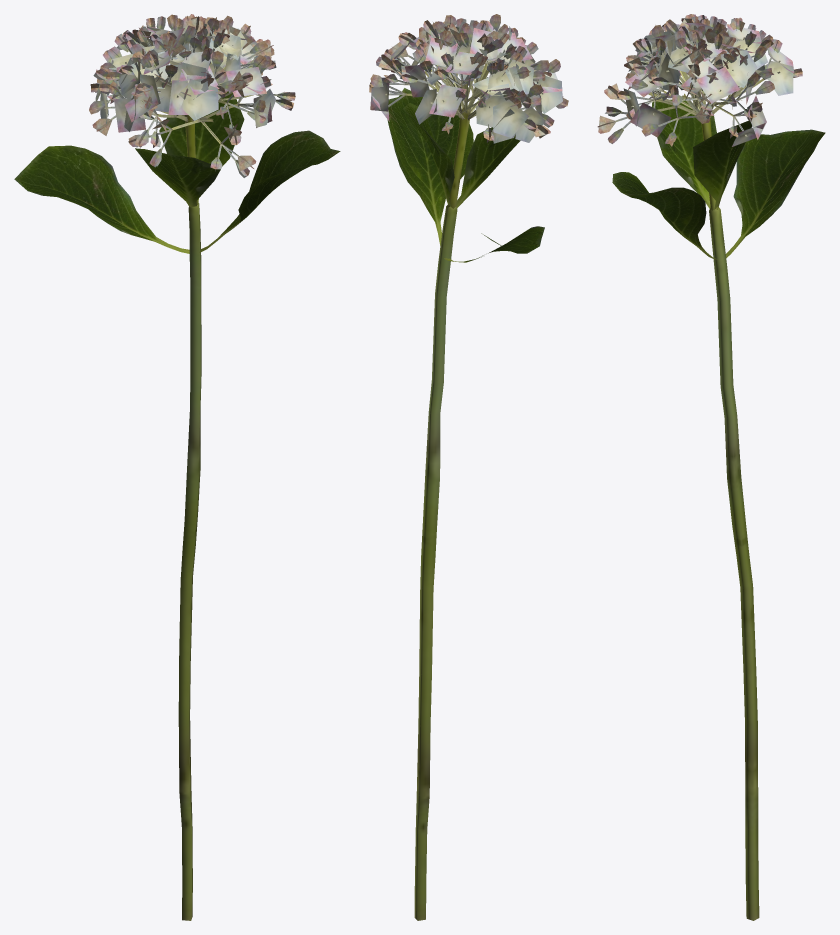
File: Hydrangea_baby_long_yellowgreen.glb
3 renders of one model, left to right at view 1: azimuth 30°, elevation 25°; view 2: azimuth 150°, elevation 25°; view 3: azimuth 270°, elevation 25°, orthographic. The views are drawn at different scales.
Visible parts, largest first — view 1: BABY; view 2: BABY; view 3: BABY.
Boxes of the visible parts, bbox=[...] form: BABY: bbox=[14, 14, 340, 920]; BABY: bbox=[369, 14, 568, 920]; BABY: bbox=[597, 14, 825, 920].
Size of the model in its own units: 0.7928 by 3.08 by 0.7195.
1 material, 1 textured.
